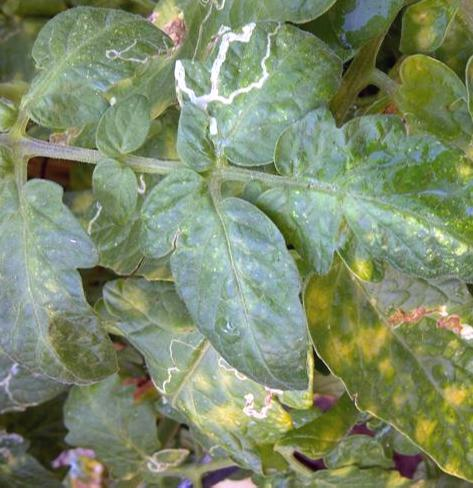Tomato mold leaf: (306, 241, 473, 488), (254, 105, 473, 291), (150, 186, 325, 399), (0, 158, 139, 416), (15, 0, 183, 139)
